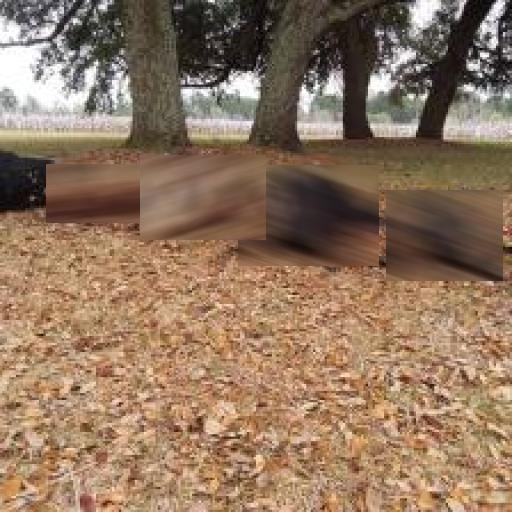Pig: (238, 165, 379, 266), (140, 155, 266, 240), (386, 190, 503, 281), (46, 164, 146, 223)
